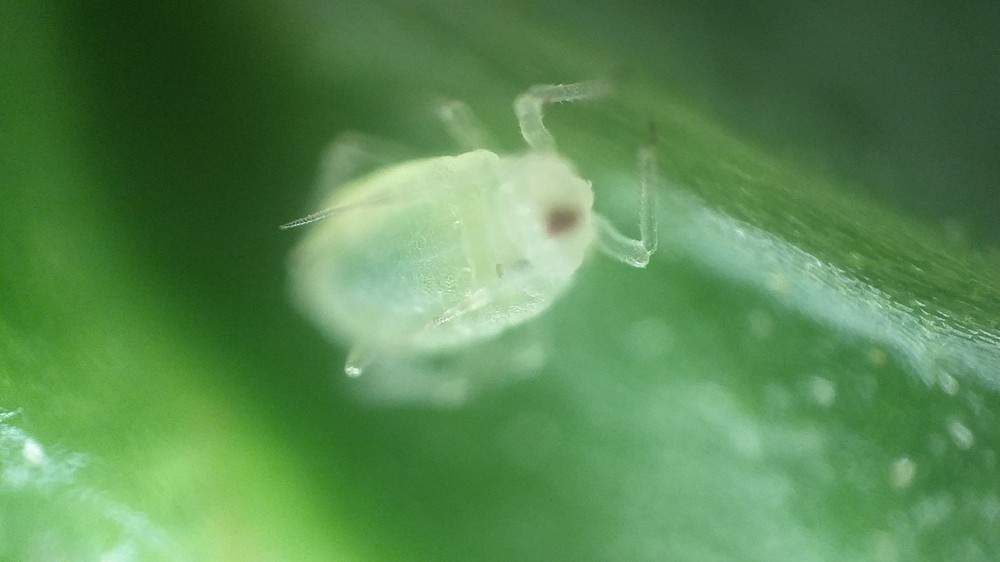Pulgon: (258, 76, 713, 416)
